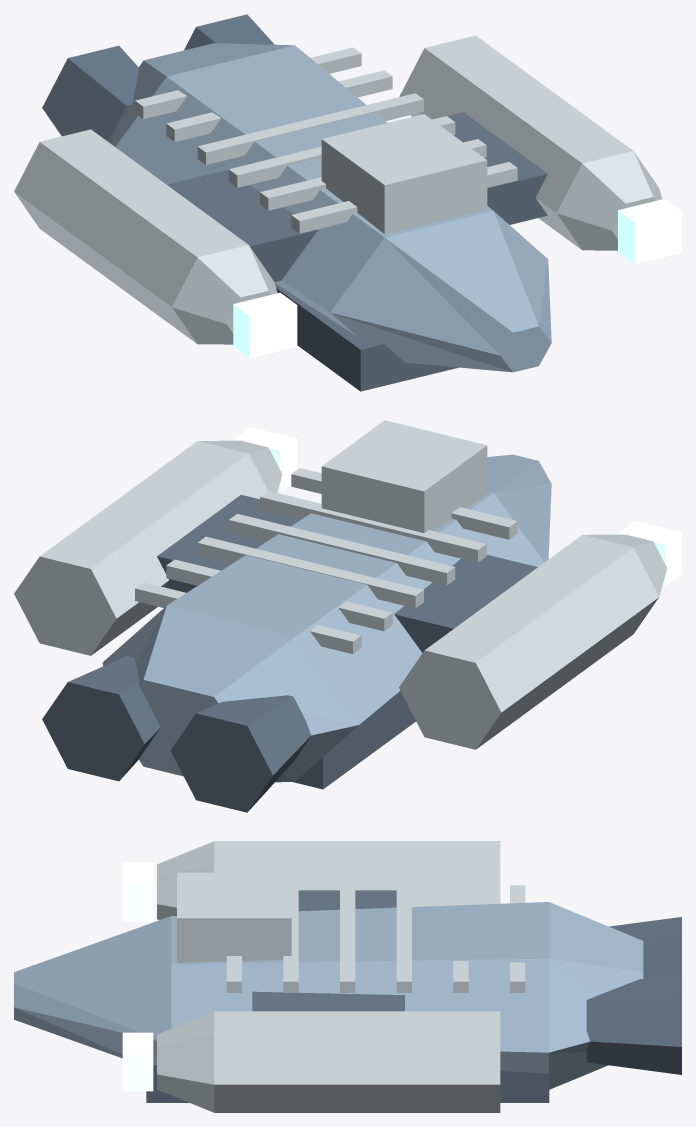
3 views of the same model, one above another, from view 1: azimuth 30°, elevation 25°; view 2: azimuth 150°, elevation 25°; view 3: azimuth 270°, elevation 25° (orthographic). The views are drawn at different scales.
Bounding box in the file's own units: 5.56 × 2.01 × 7.28.
